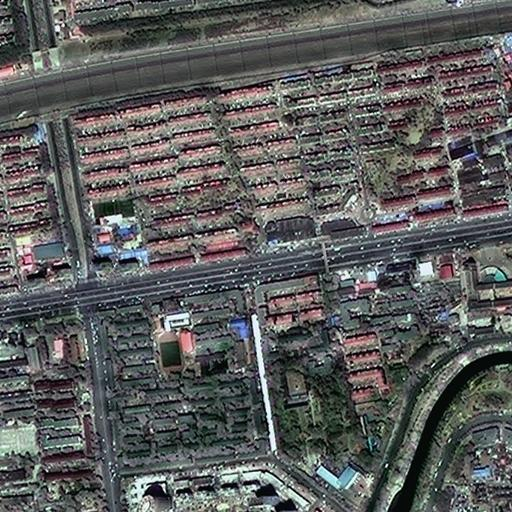school: (156, 325, 195, 377)
